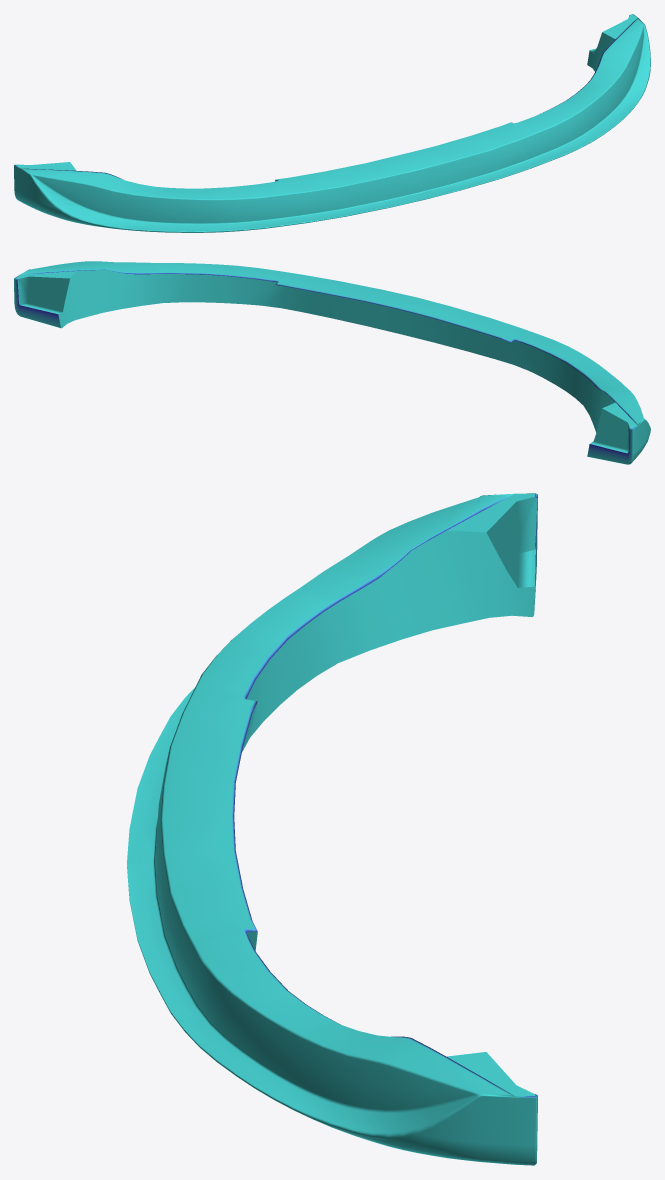
File: Car_Mini_CountrymanJCW_2017_Splitter_SetD_AltK.fbx
The picture shows the model from 3 angles, top to bottom: view 1: azimuth 30°, elevation 25°; view 2: azimuth 150°, elevation 25°; view 3: azimuth 270°, elevation 25°; orthographic projection. The views are drawn at different scales.
Parts seen in each view (by area): view 1: Splitter 6; view 2: Splitter 6; view 3: Splitter 6.
Boxes of the visible parts, box(x1,y1,x2,y2) form: Splitter 6: box(14, 14, 650, 232); Splitter 6: box(14, 261, 650, 464); Splitter 6: box(127, 493, 537, 1165).
Size of the model in its own units: 1.98 by 0.1245 by 0.5693.
